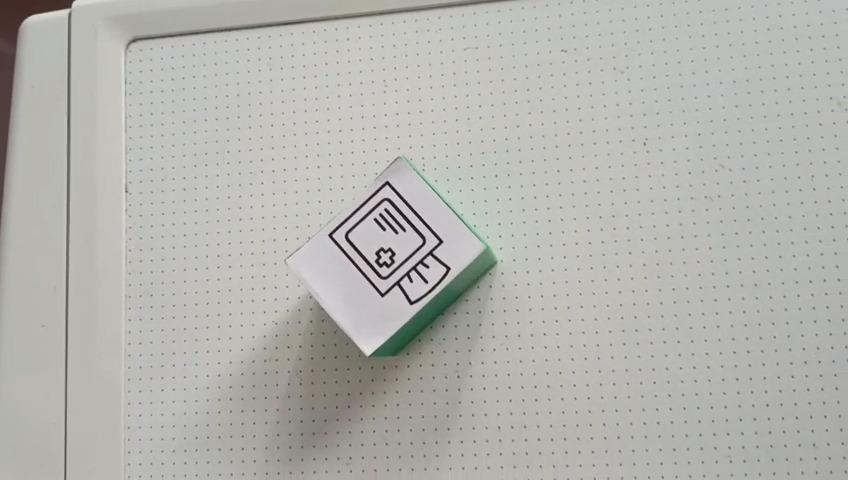Gauze: (283, 154, 497, 358)
